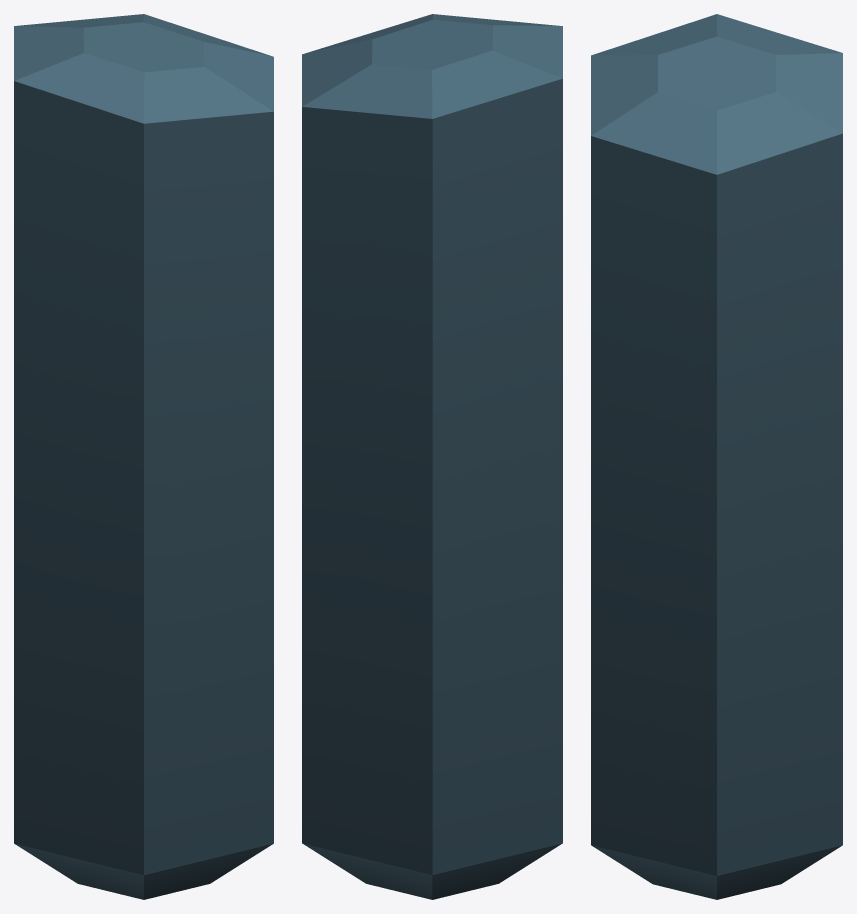
The model's file is geology-crystals-calcitecrystal_v13.fbx.
3 views of the same model, side by side, from view 1: azimuth 30°, elevation 25°; view 2: azimuth 150°, elevation 25°; view 3: azimuth 270°, elevation 25° (orthographic). The views are drawn at different scales.
Visible parts, largest first — view 1: CalciteCrystal_v13; view 2: CalciteCrystal_v13; view 3: CalciteCrystal_v13.
Part boxes in pixels (x1,y1,x2,y2): CalciteCrystal_v13: (14, 14, 273, 899); CalciteCrystal_v13: (302, 14, 562, 899); CalciteCrystal_v13: (591, 14, 842, 899).
Bounding box in the file's own units: 1.39 × 4.24 × 1.21.
